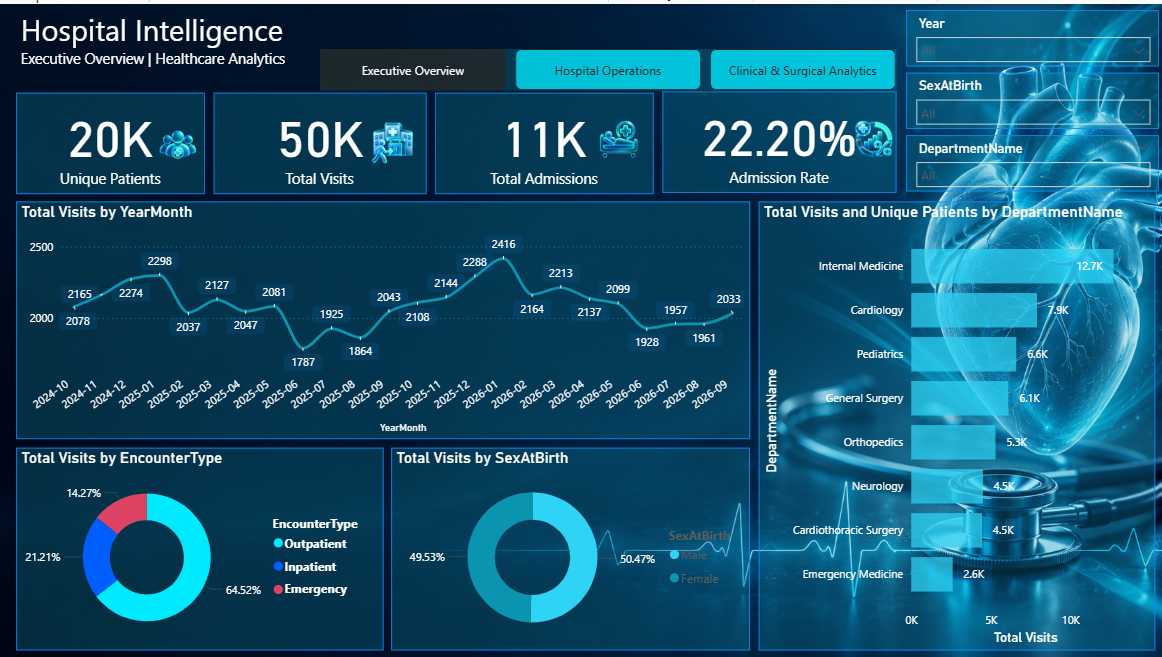

Layout of this report page (visuals, bound fields, positions):
{"tool":"powerbi","page":{"name":"Executive Overview","canvas":[1280,720],"ordinal":0},"visuals":[{"type":"card","fields":{"Values":["bi DimDate.Total Visits"]},"box":[234.6,97.4,233.3,111.1],"z":0},{"type":"card","fields":{"Values":["bi DimDate.Unique Patients"]},"box":[17.8,97.4,207.2,111.1],"z":1000},{"type":"card","fields":{"Values":["bi DimDate.Total Admissions"]},"box":[477.5,97.4,240.1,111.1],"z":2000},{"type":"textbox","box":[17.8,1.4,311.5,94.7],"z":3000},{"type":"card","fields":{"Values":["bi DimDate.Admission Rate"]},"box":[727.3,96.1,256.6,111.1],"z":4000},{"type":"lineChart","fields":{"Y":["bi DimDate.Total Visits"],"Category":["bi DimDate.YearMonth"]},"box":[17.8,216.8,805.5,260.7],"z":5000},{"type":"donutChart","fields":{"Category":["bi FactEncounter.EncounterType"],"Y":["bi DimDate.Total Visits"]},"box":[17.8,487.1,403.4,222.3],"z":6000},{"type":"clusteredBarChart","fields":{"Category":["bi DimDepartment.DepartmentName"],"Y":["bi DimDate.Total Visits"]},"box":[832.9,216.8,435,492.6],"z":7000},{"type":"pageNavigator","box":[351.3,49.4,632.6,45.3],"z":8000},{"type":"slicer","fields":{"Values":["bi DimDate.Year"]},"box":[994.9,6.9,278.6,61.7],"z":9000},{"type":"image","box":[156.4,127.6,78.2,53.5],"z":10000},{"type":"image","box":[387,116.6,85.1,72.7],"z":11000},{"type":"image","box":[640.8,116.6,76.8,64.5],"z":12000},{"type":"image","box":[927.6,112.5,63.1,72.7],"z":13000},{"type":"slicer","fields":{"Values":["bi DimPatient.SexAtBirth"]},"box":[994.9,75.5,278.6,61.7],"z":14000},{"type":"slicer","fields":{"Values":["bi DimDepartment.DepartmentName"]},"box":[994.9,144.1,278.6,61.7],"z":15000},{"type":"pieChart","fields":{"Category":["bi DimPatient.SexAtBirth"],"Y":["bi DimDate.Total Visits"]},"box":[429.5,487.1,393.8,222.3],"z":16000}]}

Visuals, with their boxes in screenshot pixels (x1, y1, x2, y2), scaled from the page's 1280x720 canvas onto the 1162x657 screenshot:
card - bi DimDate.Total Visits: bbox=(213, 89, 425, 190)
card - bi DimDate.Unique Patients: bbox=(16, 89, 204, 190)
card - bi DimDate.Total Admissions: bbox=(433, 89, 651, 190)
textbox: bbox=(16, 1, 299, 88)
card - bi DimDate.Admission Rate: bbox=(660, 88, 893, 189)
lineChart - bi DimDate.Total Visits x bi DimDate.YearMonth: bbox=(16, 198, 747, 436)
donutChart - bi FactEncounter.EncounterType x bi DimDate.Total Visits: bbox=(16, 444, 382, 647)
clusteredBarChart - bi DimDepartment.DepartmentName x bi DimDate.Total Visits: bbox=(756, 198, 1151, 647)
pageNavigator: bbox=(319, 45, 893, 86)
slicer - bi DimDate.Year: bbox=(903, 6, 1156, 63)
image: bbox=(142, 116, 213, 165)
image: bbox=(351, 106, 429, 173)
image: bbox=(582, 106, 651, 165)
image: bbox=(842, 103, 899, 169)
slicer - bi DimPatient.SexAtBirth: bbox=(903, 69, 1156, 125)
slicer - bi DimDepartment.DepartmentName: bbox=(903, 131, 1156, 188)
pieChart - bi DimPatient.SexAtBirth x bi DimDate.Total Visits: bbox=(390, 444, 747, 647)
